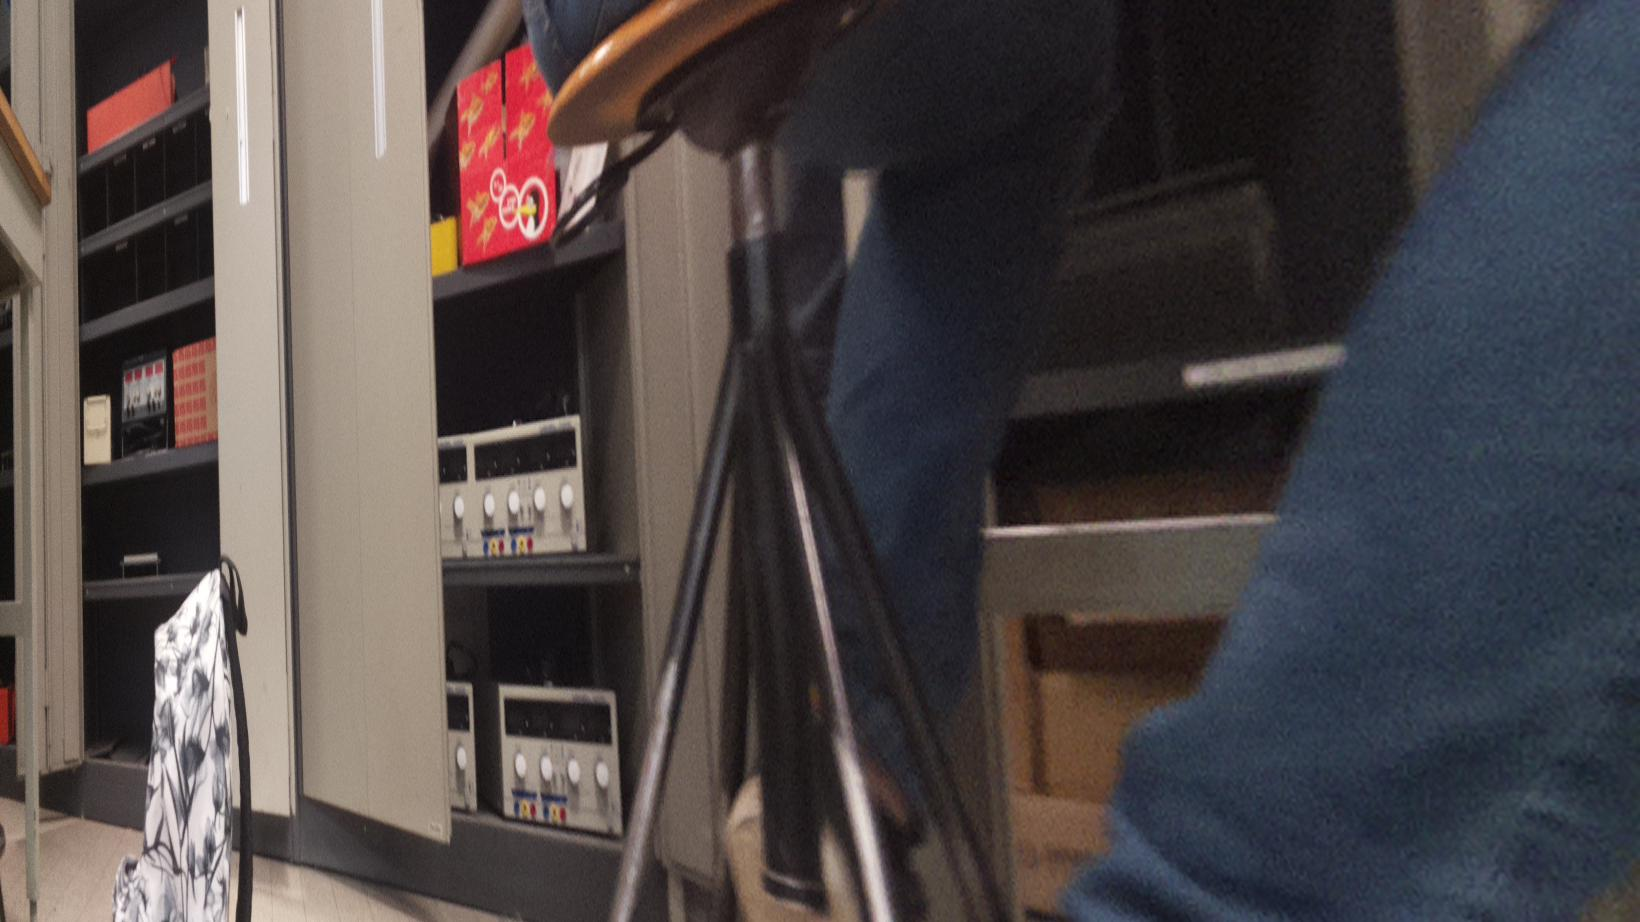big: (117, 562, 265, 922)
